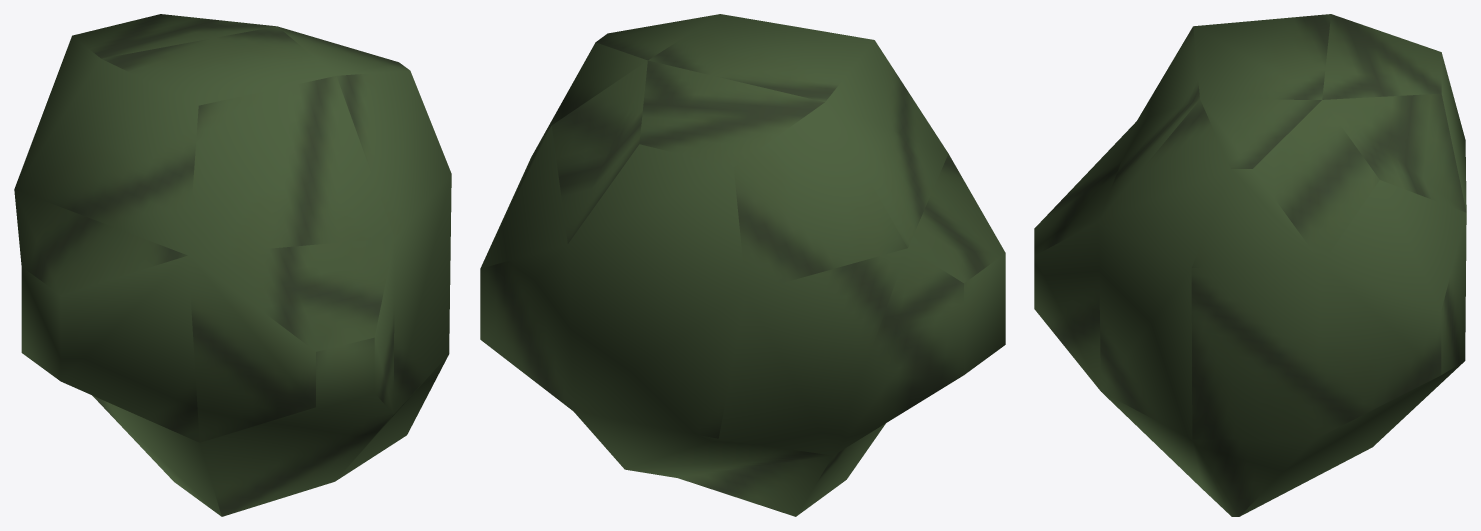
File: Phase 1 Bamboo 1.fbx
3 renders of one model, left to right at view 1: azimuth 30°, elevation 25°; view 2: azimuth 150°, elevation 25°; view 3: azimuth 270°, elevation 25°, orthographic. The views are drawn at different scales.
Parts seen in each view (by area): view 1: Phase 1 Bamboo 1; view 2: Phase 1 Bamboo 1; view 3: Phase 1 Bamboo 1.
Boxes of the visible parts, x1,y1,x2,y2 form: Phase 1 Bamboo 1: [14, 14, 451, 516]; Phase 1 Bamboo 1: [480, 14, 1005, 516]; Phase 1 Bamboo 1: [1034, 14, 1466, 516].
Bounding box in the file's own units: 27.46 × 28.45 × 27.75.
